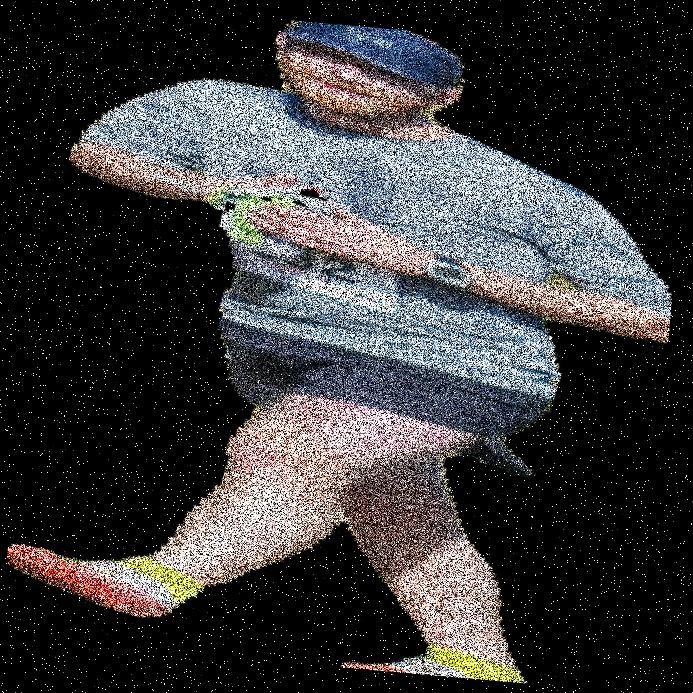Pessoa: (224, 0, 551, 692)
